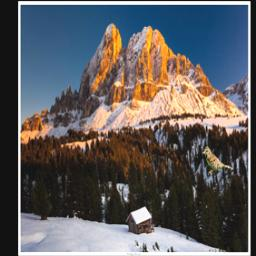Sparrow: (202, 145, 233, 177)
